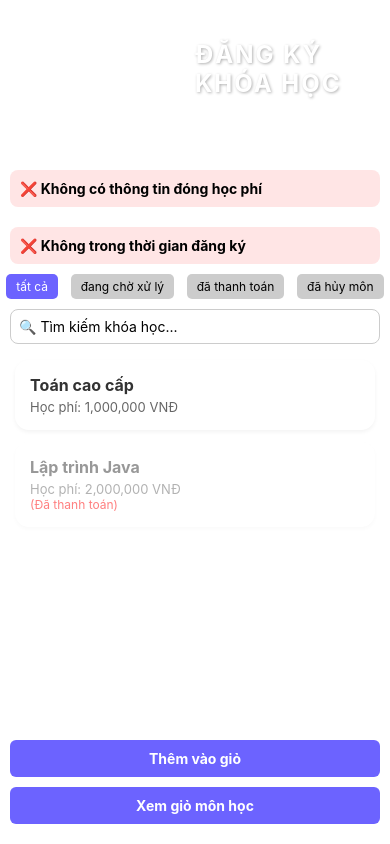
Test case: StudentCourseListScreen › lọc khóa học theo từ khóa tìm kiếm
This screenshot has width=390, height=844.
Expected: the text "Toán cao cấp" is shown, [30,375,134,395]
Step 1. Type "toán" into the field with placeholder "🔍 Tìm kiếm khóa học..." → coordinates (195, 326), box [10,309,380,344]
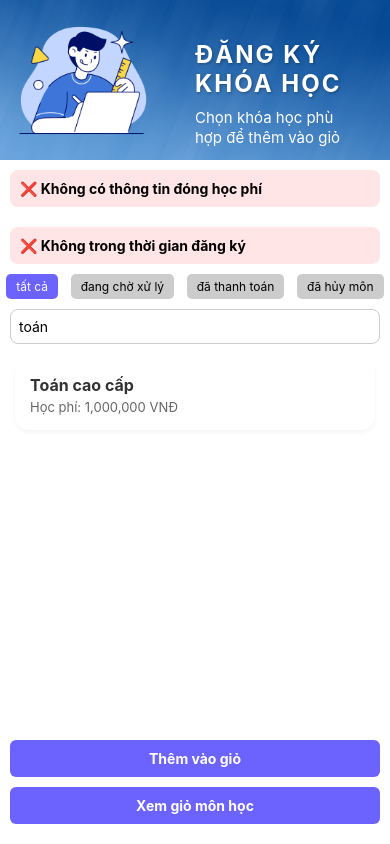
Expected: the text "Toán cao cấp" is shown, [30,375,134,395]
Expected: the text "Lập trình Java" is gone
